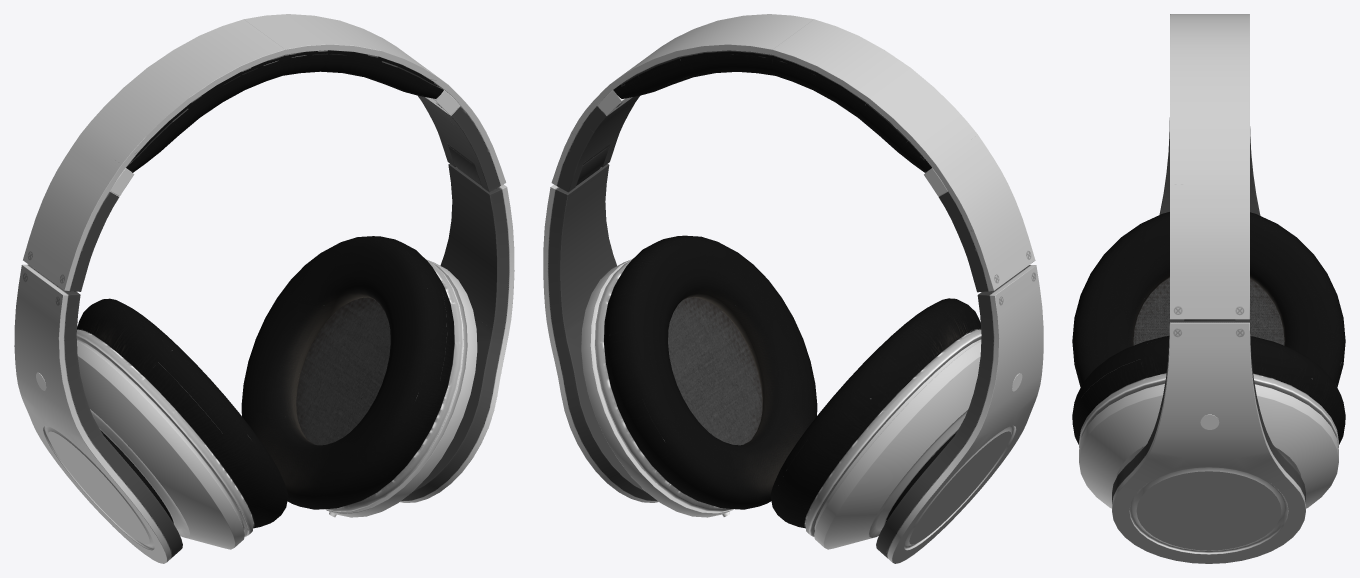
3 renders of one model, left to right at view 1: azimuth 30°, elevation 25°; view 2: azimuth 150°, elevation 25°; view 3: azimuth 270°, elevation 25°, orthographic. The views are drawn at different scales.
Visible parts, largest first — view 1: Headphones; view 2: Headphones; view 3: Headphones.
Part boxes in pixels (x1,y1,x2,y2): Headphones: (14, 14, 514, 563); Headphones: (543, 14, 1043, 563); Headphones: (1072, 14, 1345, 563).
Bounding box in the file's own units: 74.24 × 77.84 × 40.13.
2 materials, 1 textured.
